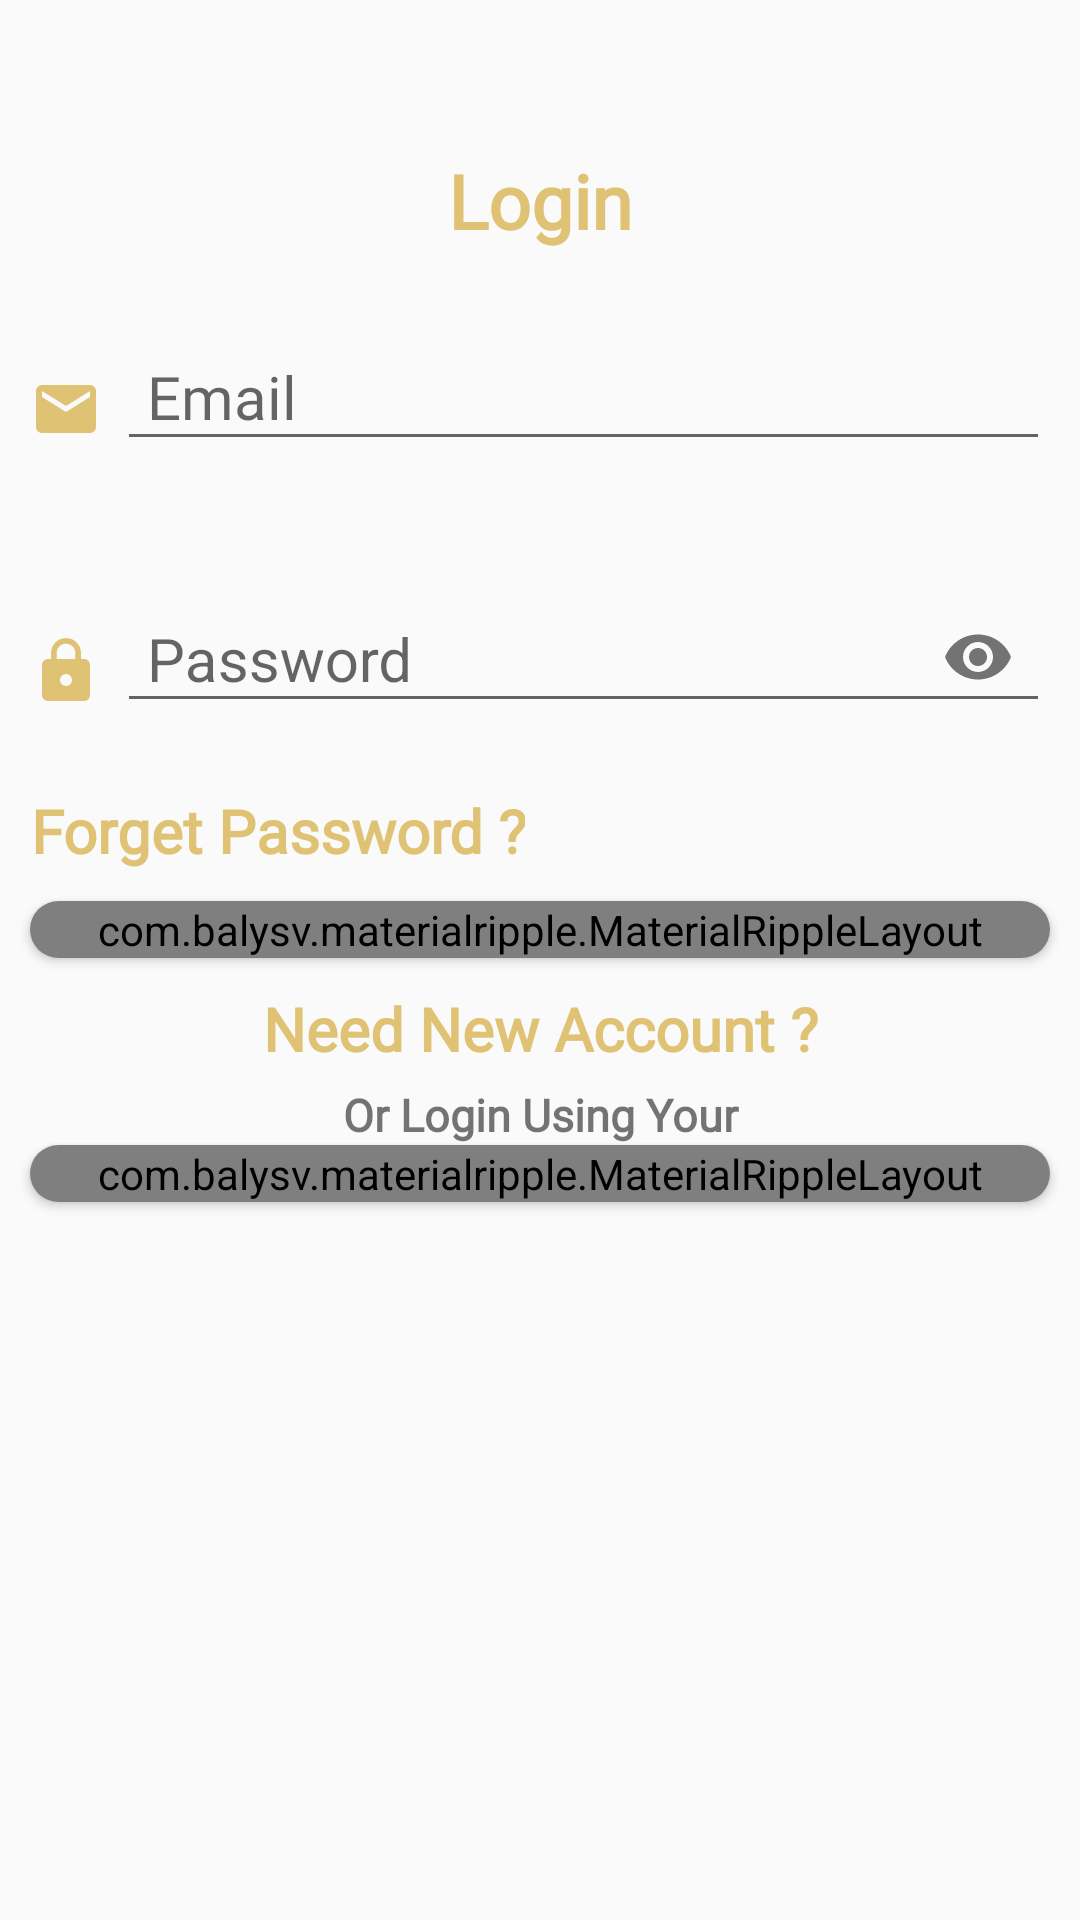

Named icons in this screenshot (1080px×1920px) and their bounding boxes, (x1=x1, y1=y1, x2=x2, y2=y2):
email: (x1=36, y1=385, x2=96, y2=433)
